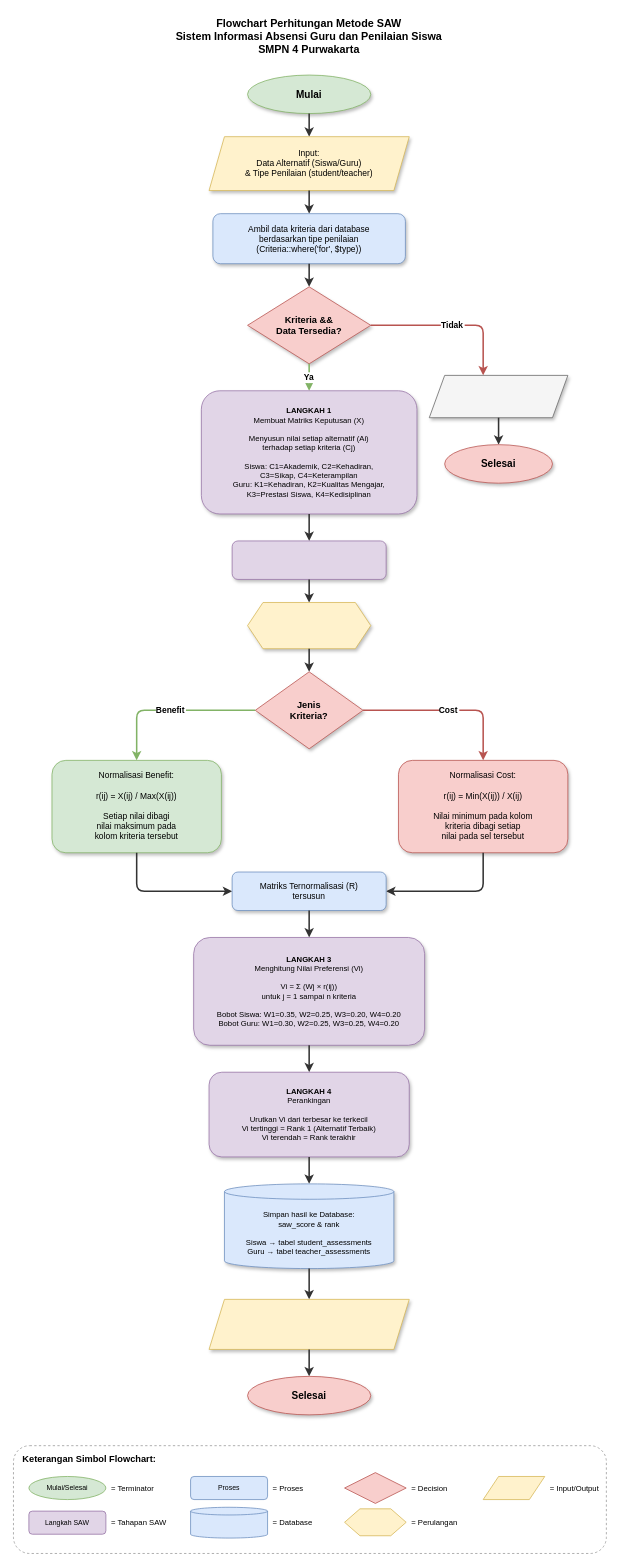
Image size: 628x1567. Some labels were removed from this diagram. The centre of each missing label's shape, as x and y in pixels:
"DB" belongs at point 229,1522.
"I/O" belongs at point 513,1488.
"Keputusan" belongs at point 375,1487.
"LANGKAH 2 Normalisasi Matriks" belongs at point 309,561.
"Loop" belongs at point 375,1522.
"Output: Data Siswa/Guru Terranking dengan SAW Score" belongs at point 309,1325.
"Return Data Tanpa Perubahan" belongs at point 498,397.
"Untuk setiap kriteria (Cj)" belongs at point 309,626.
